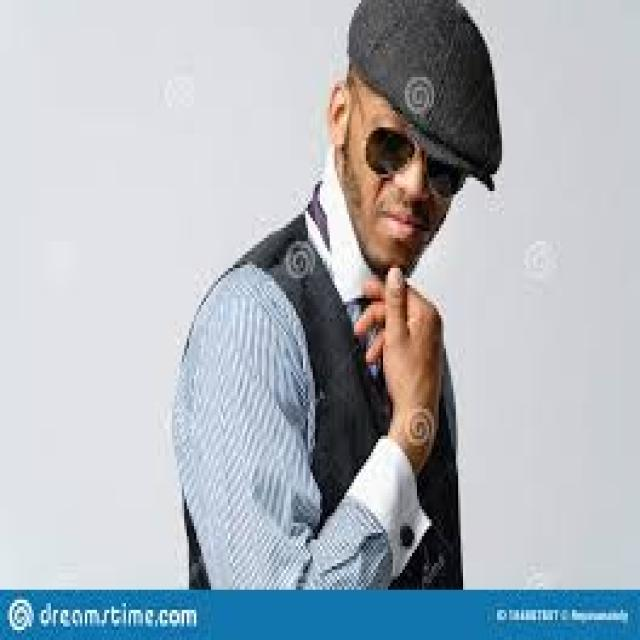cap: (324, 0, 504, 281)
